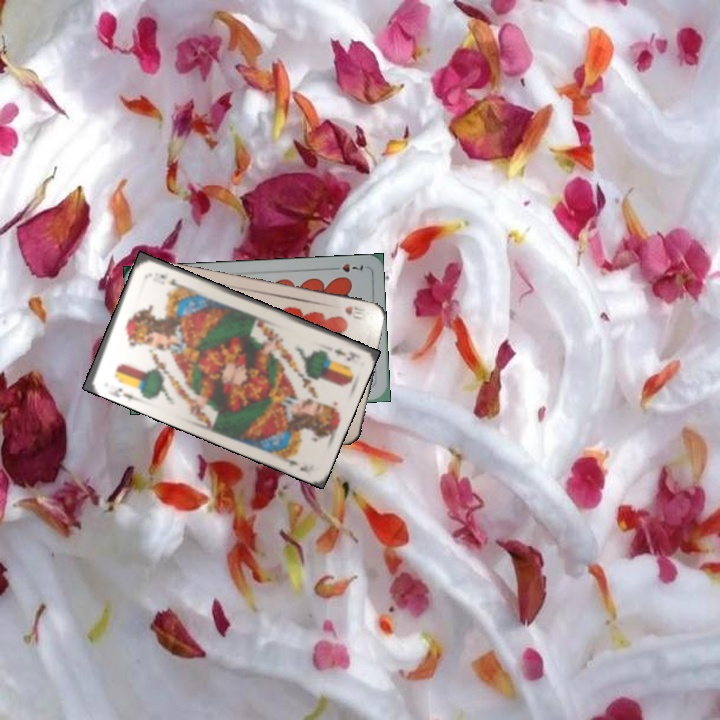EK: (105, 384, 139, 403), (330, 345, 360, 363)
H10: (341, 302, 368, 322)
H7: (327, 259, 366, 275)
